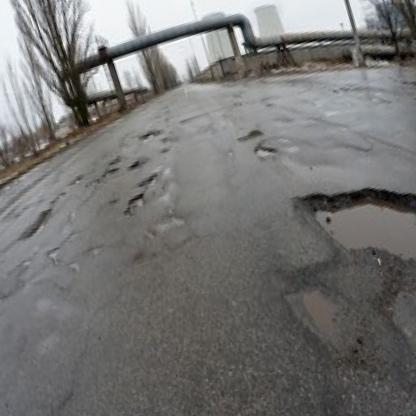pothole: (295, 154, 416, 293), (274, 252, 382, 385), (370, 251, 416, 416), (10, 206, 60, 243), (142, 209, 189, 242), (117, 191, 150, 221), (252, 139, 278, 163), (136, 172, 161, 190), (48, 188, 69, 208), (46, 244, 64, 266), (138, 129, 161, 144), (70, 173, 85, 189), (103, 165, 121, 177), (129, 157, 147, 169)
